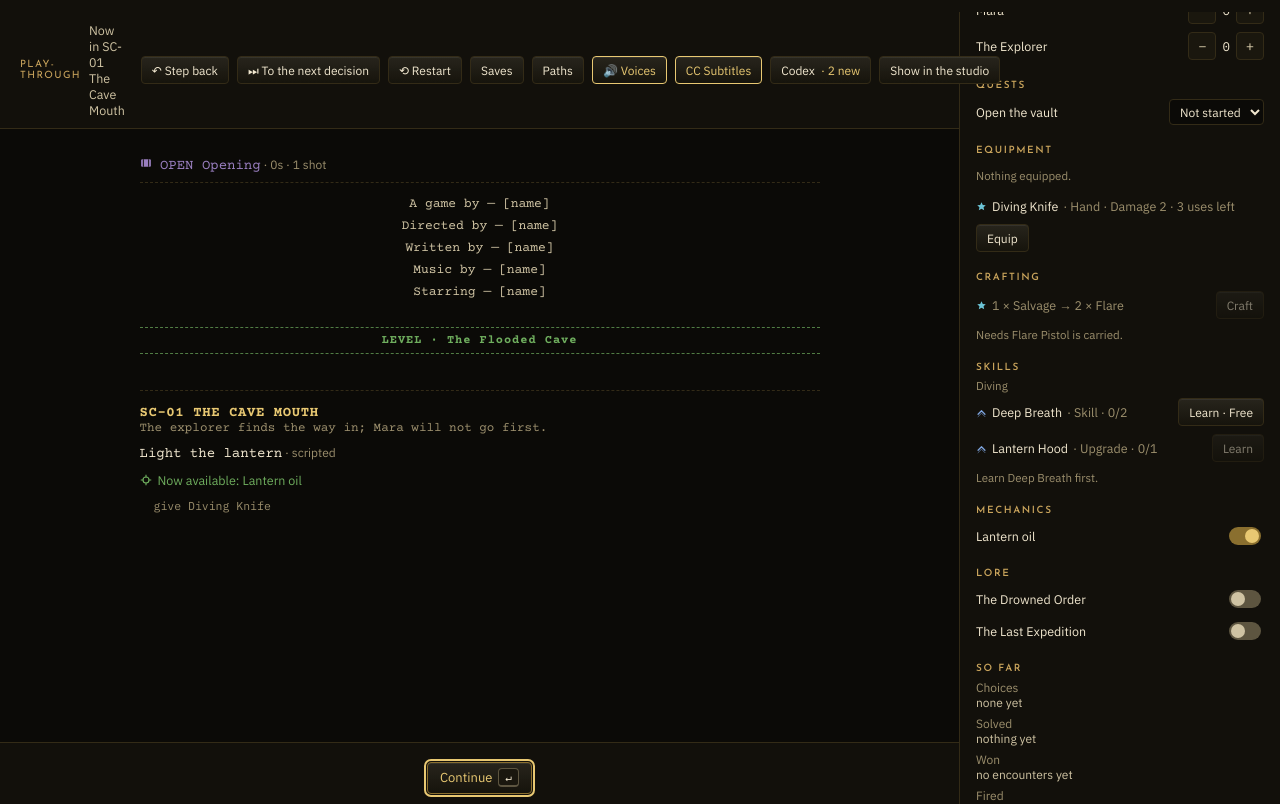
skills in the play-through › lists the tree, learns a rank, and says why the upgrade waits
(page scrolled)
Expected: the text "Diving" is shown, top-left (976, 378), bottom-right (1008, 393)
Expected: the button with aria-label "Learn Lantern Hood" is disabled, top-left (1212, 434), bottom-right (1264, 462)
Click the button with aria-label "Learn Deep Breath". click: (1221, 412)
box: top-left (1178, 398), bottom-right (1264, 426)
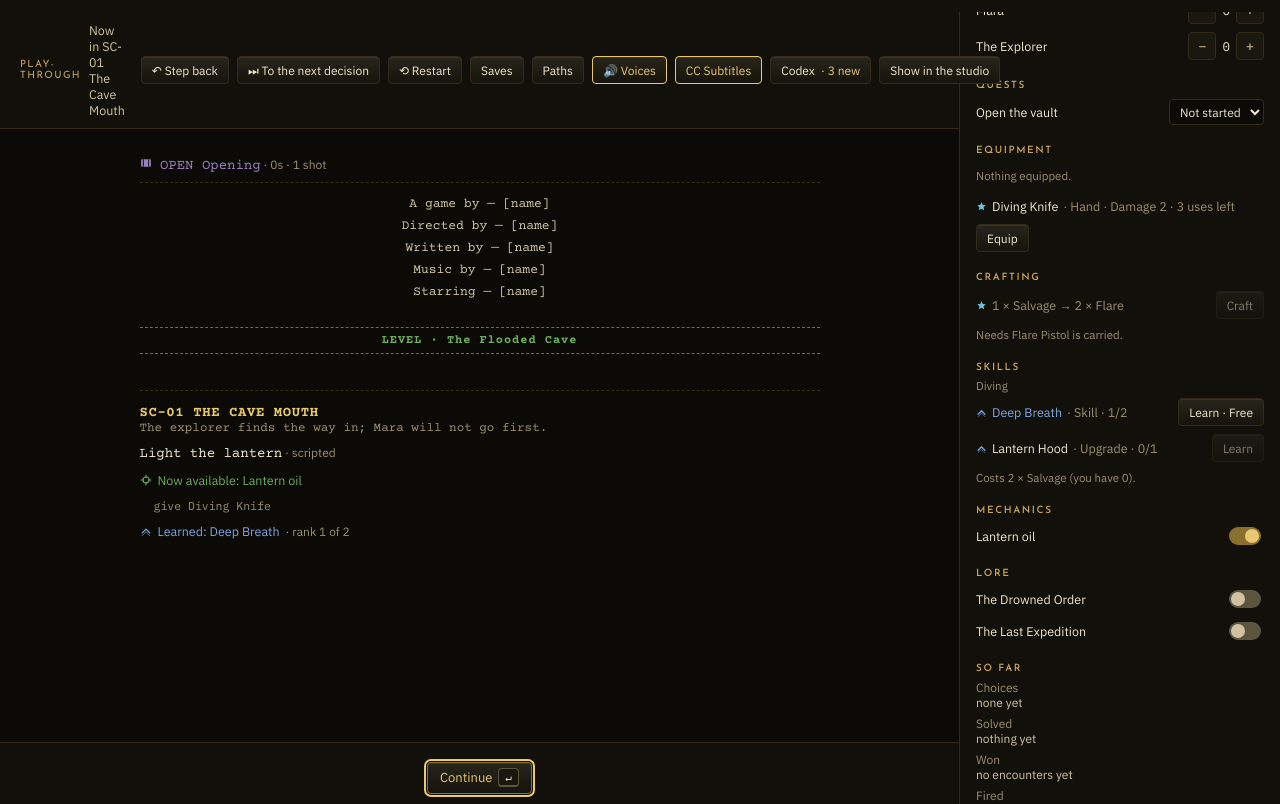
Expected: the text "· Skill · 1/2" is shown, top-left (1067, 404), bottom-right (1128, 420)
Expected: the element showing "Learned: Deep Breath · rank 1 of 2" is shown, top-left (140, 524), bottom-right (350, 540)
Expected: the text "Costs 2 × Salvage (you have 0)." is shown, top-left (976, 470), bottom-right (1136, 485)
